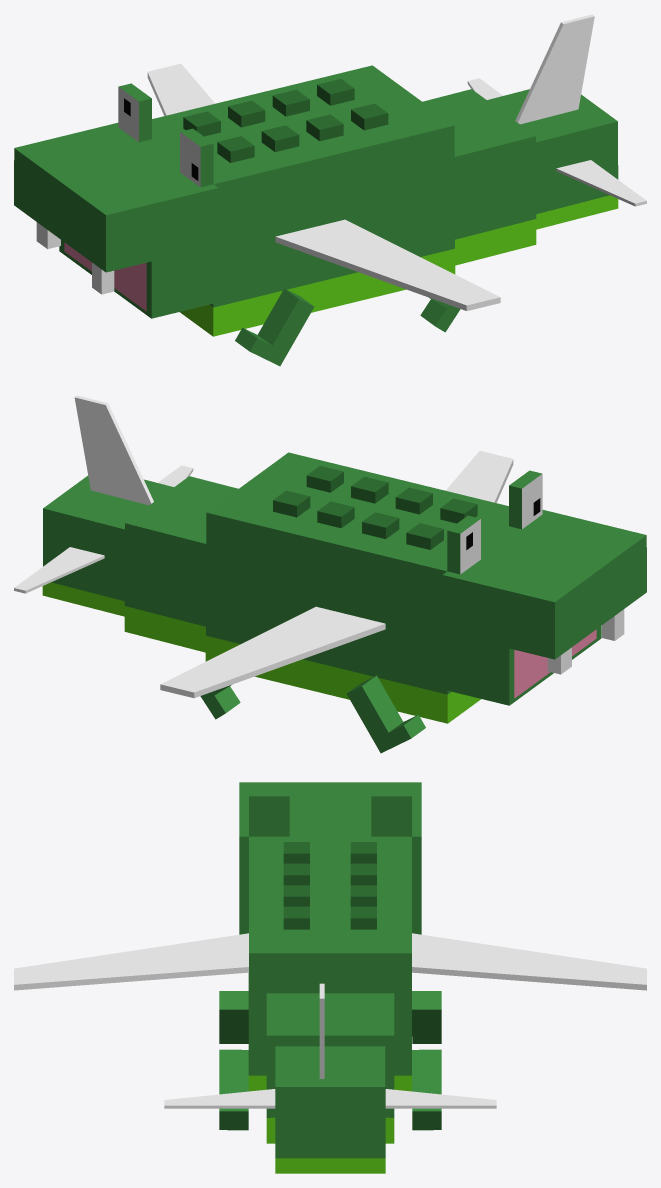
The model's file is Kroki.fbx.
3 renders of one model, top to bottom at view 1: azimuth 30°, elevation 25°; view 2: azimuth 150°, elevation 25°; view 3: azimuth 270°, elevation 25°, orthographic.
Parts seen in each view (by area): view 1: Krokodyl.003; view 2: Krokodyl.003; view 3: Krokodyl.003.
Part boxes in pixels (x1,y1,x2,y2): Krokodyl.003: [14, 14, 646, 366]; Krokodyl.003: [14, 395, 646, 753]; Krokodyl.003: [14, 782, 646, 1173].
Bounding box in the file's own units: 81.41 × 33.87 × 84.86.
